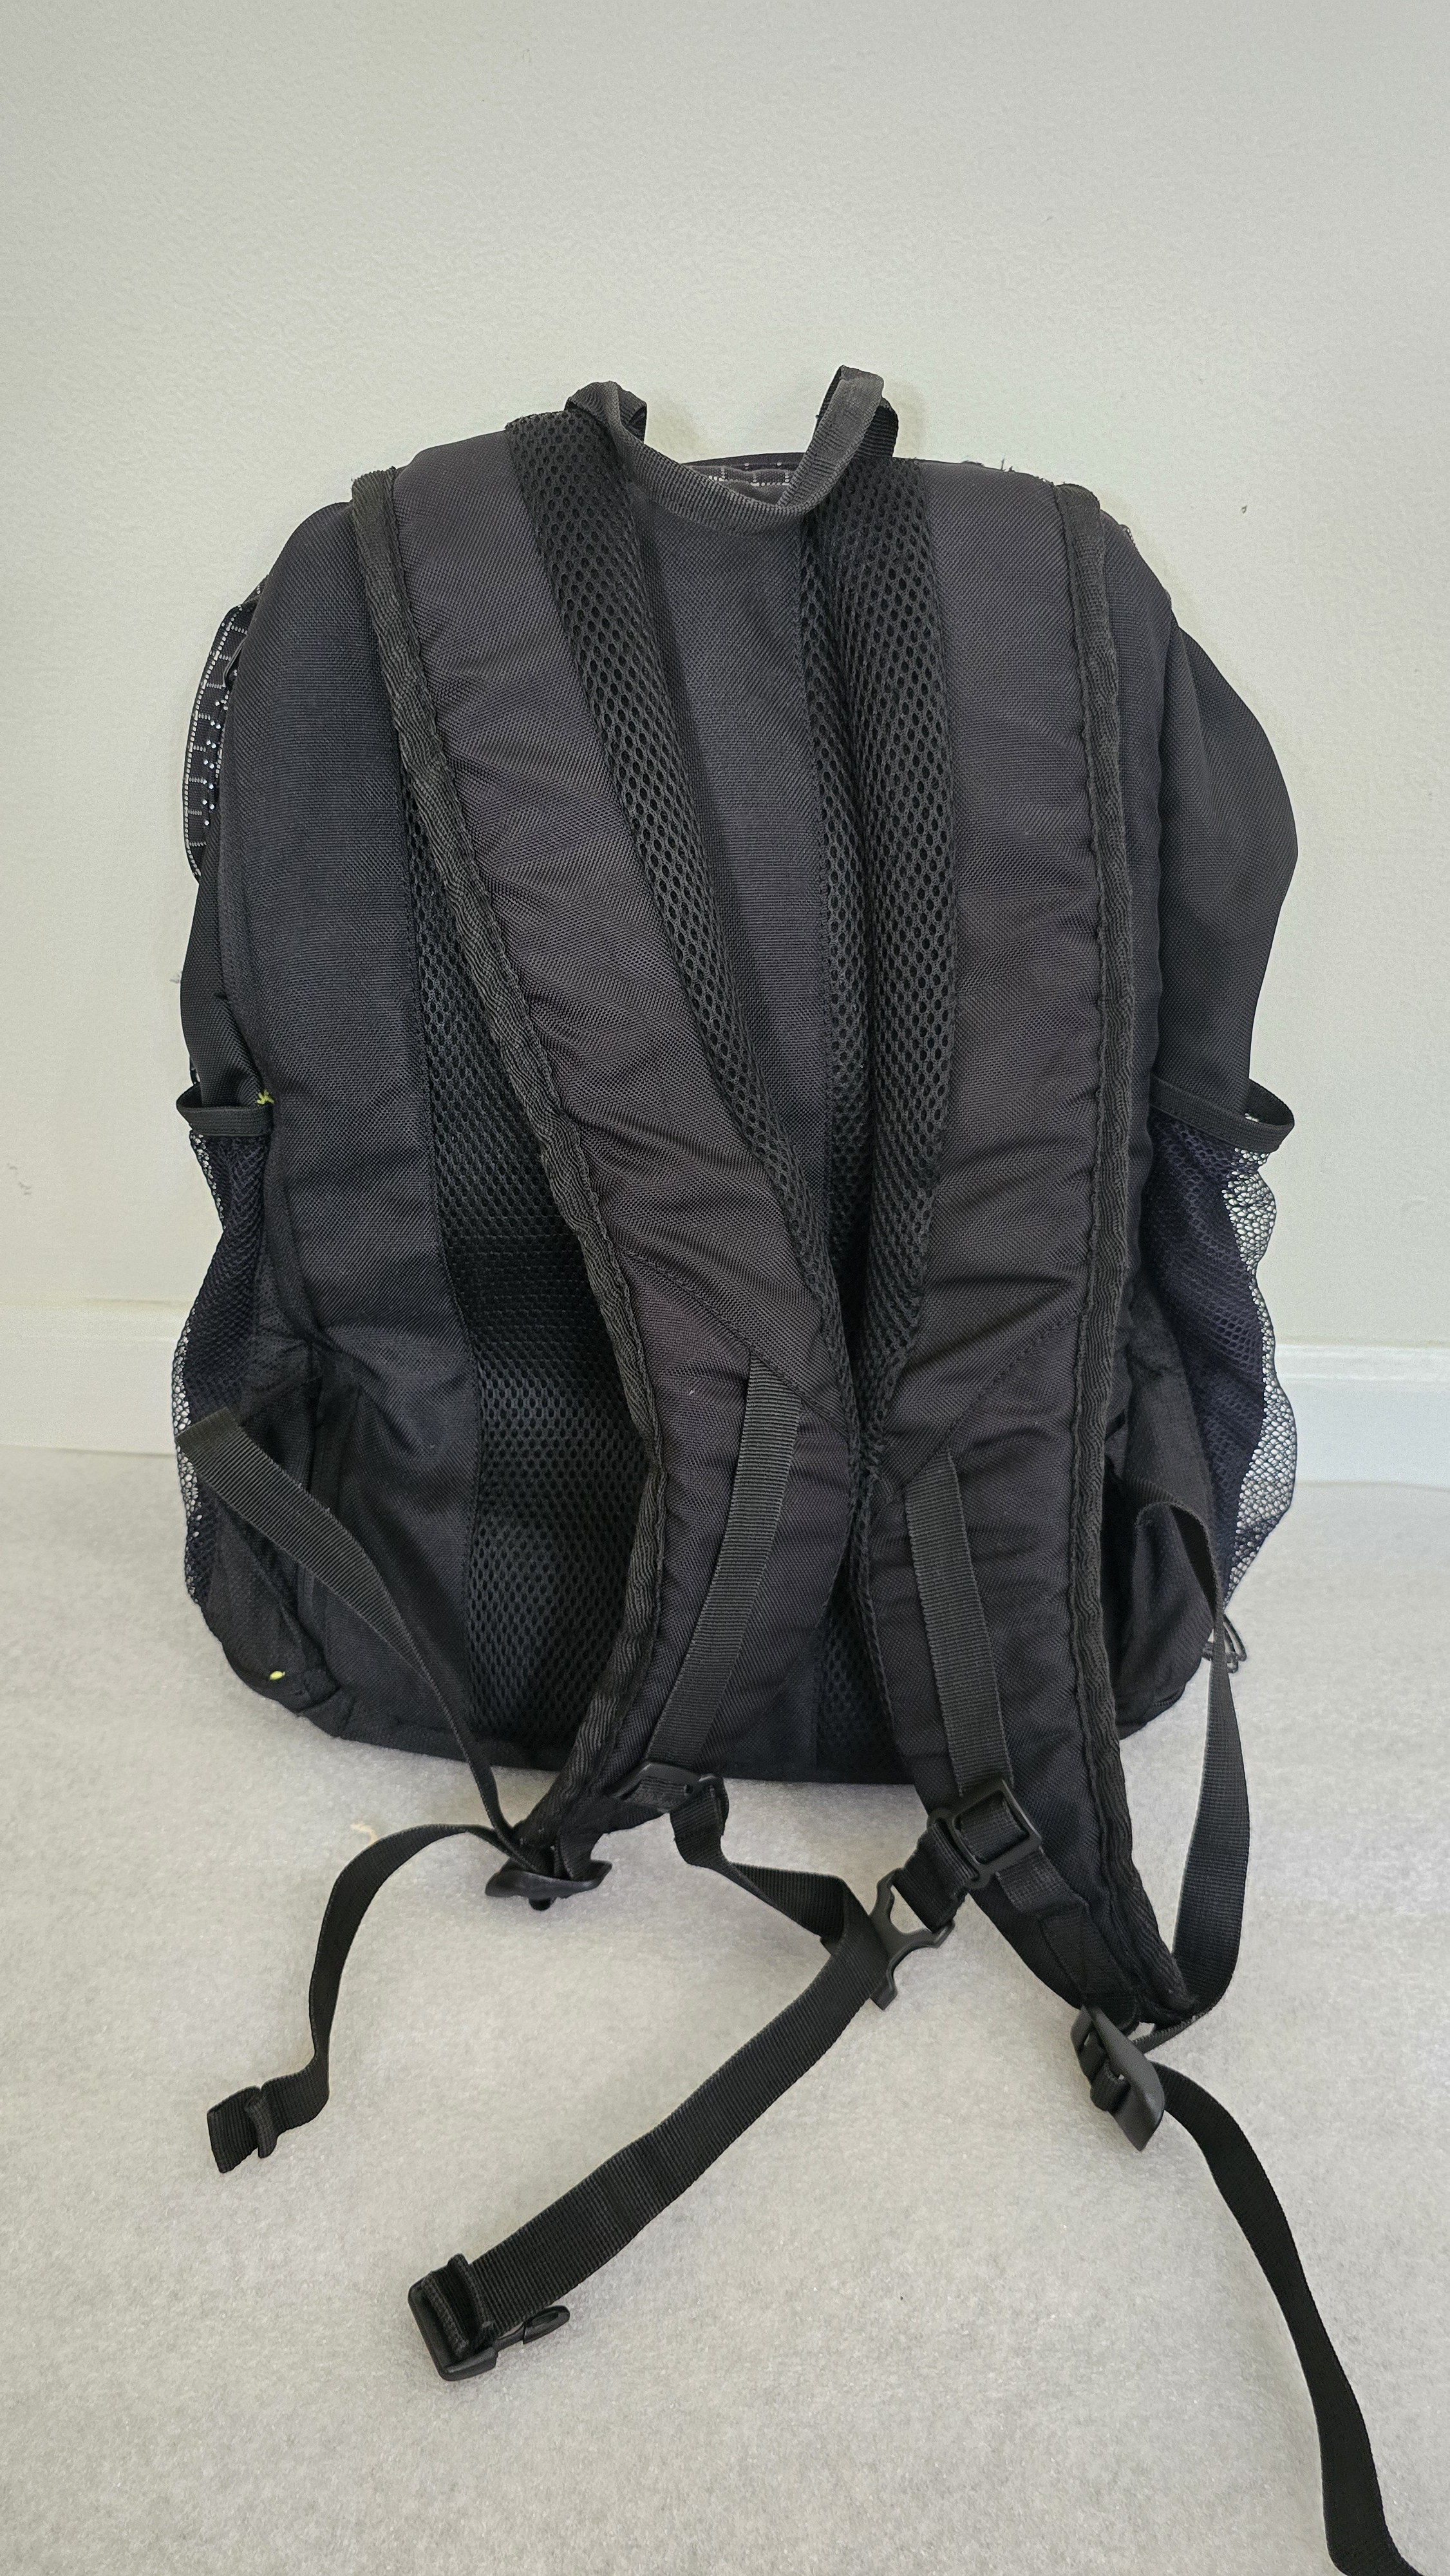bag: (147, 391, 1332, 1877)
